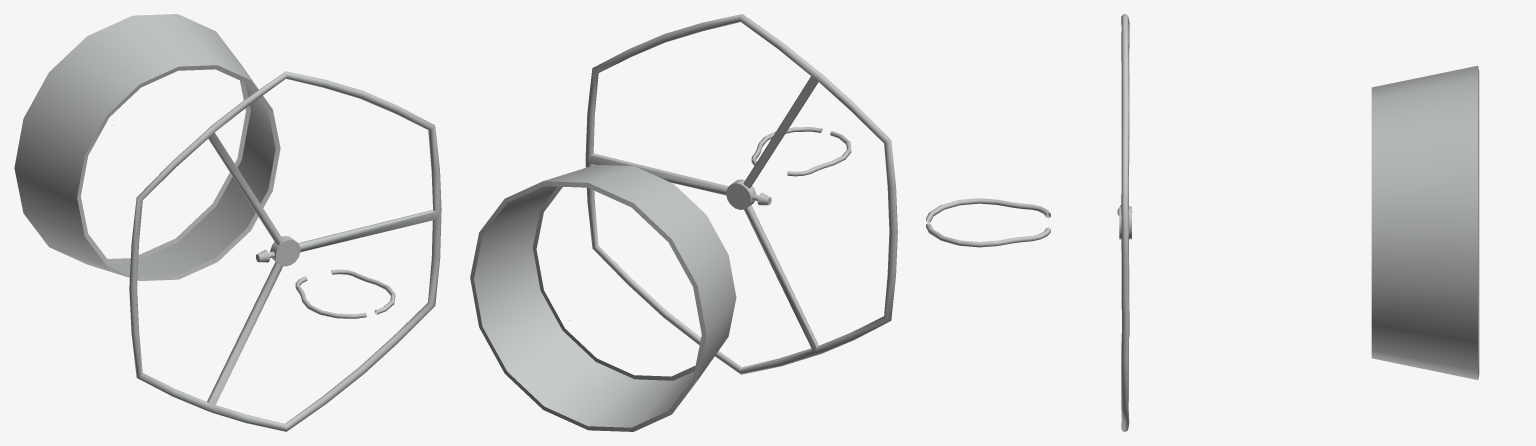
Rendered from MeshDeskLamp_5_0_GeomSubset_1.obj.
The picture shows the model from 3 angles, left to right: view 1: azimuth 30°, elevation 25°; view 2: azimuth 150°, elevation 25°; view 3: azimuth 270°, elevation 25°; orthographic projection. The views are drawn at different scales.
Visible parts, largest first — view 1: MeshDeskLamp_5_0_GeomSubset_1; view 2: MeshDeskLamp_5_0_GeomSubset_1; view 3: MeshDeskLamp_5_0_GeomSubset_1.
Boxes of the visible parts, x1,y1,x2,y2 form: MeshDeskLamp_5_0_GeomSubset_1: [14, 14, 441, 431]; MeshDeskLamp_5_0_GeomSubset_1: [470, 14, 897, 431]; MeshDeskLamp_5_0_GeomSubset_1: [926, 14, 1479, 431].
Size of the model in its own units: 0.2505 by 0.277 by 0.3603.
